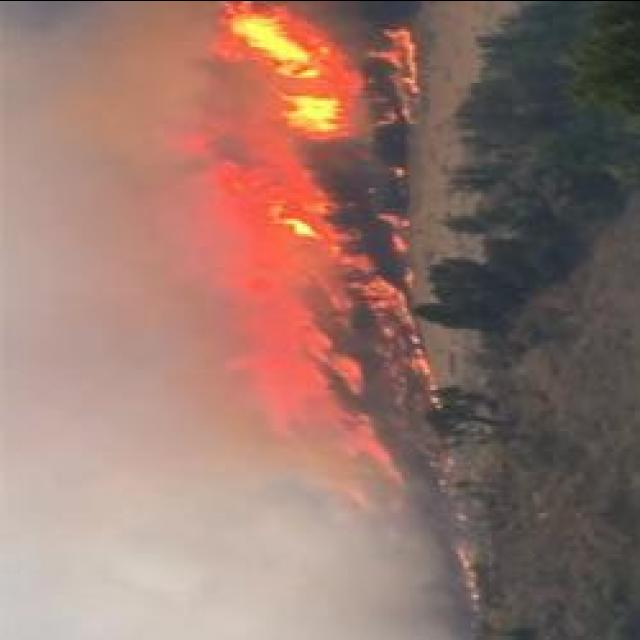fire: (223, 11, 339, 130)
smoke: (347, 490, 448, 640), (155, 152, 323, 235), (214, 270, 287, 418), (274, 405, 336, 522)
